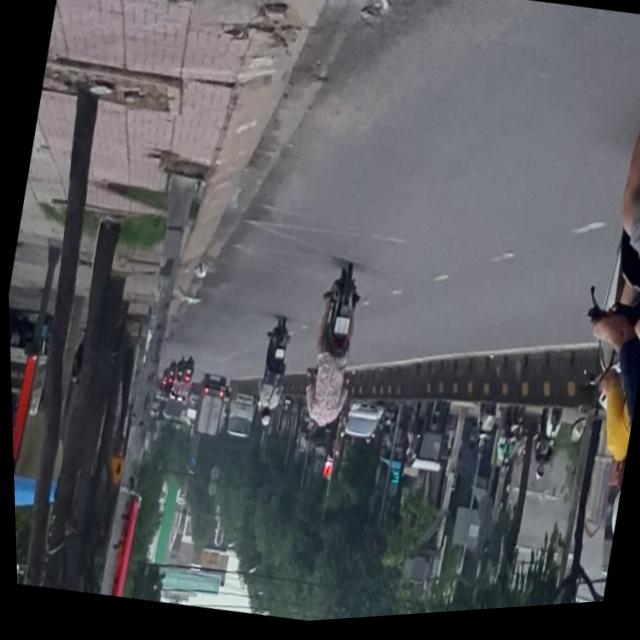helmet: (598, 472, 623, 555)
licenseplate: (534, 21, 640, 567)
